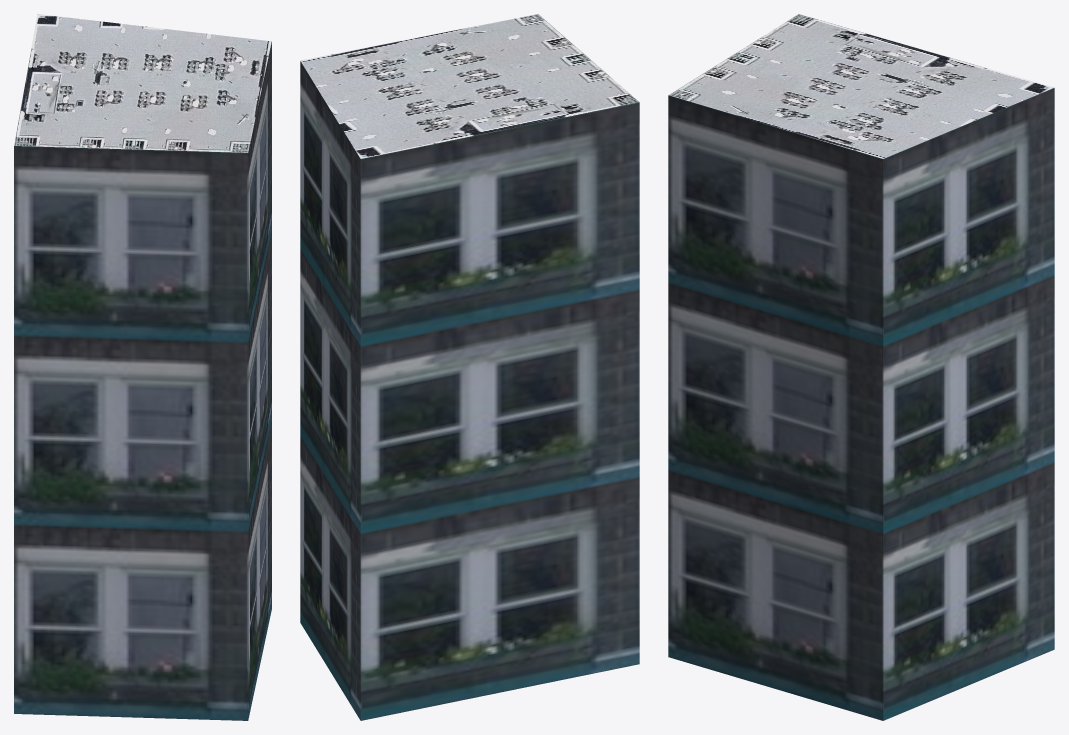
Rendered from ResTex__5258.fbx.
3 views of the same model, side by side, from view 1: azimuth 30°, elevation 25°; view 2: azimuth 150°, elevation 25°; view 3: azimuth 270°, elevation 25° (orthographic).
Visible parts, largest first — view 1: CityEngineMaterial_11_m, CityEngineMaterial_8_m; view 2: CityEngineMaterial_11_m, CityEngineMaterial_8_m; view 3: CityEngineMaterial_11_m, CityEngineMaterial_8_m.
Boxes of the visible parts, left/top/right/bottom form: CityEngineMaterial_11_m: left=14, top=42, right=271, bottom=720; CityEngineMaterial_8_m: left=14, top=14, right=271, bottom=152; CityEngineMaterial_11_m: left=300, top=61, right=639, bottom=720; CityEngineMaterial_8_m: left=300, top=14, right=639, bottom=158; CityEngineMaterial_11_m: left=668, top=88, right=1054, bottom=720; CityEngineMaterial_8_m: left=669, top=14, right=1053, bottom=158.
Bounding box in the file's own units: 4.98 × 9 × 5.6.
2 materials, 2 textured.
